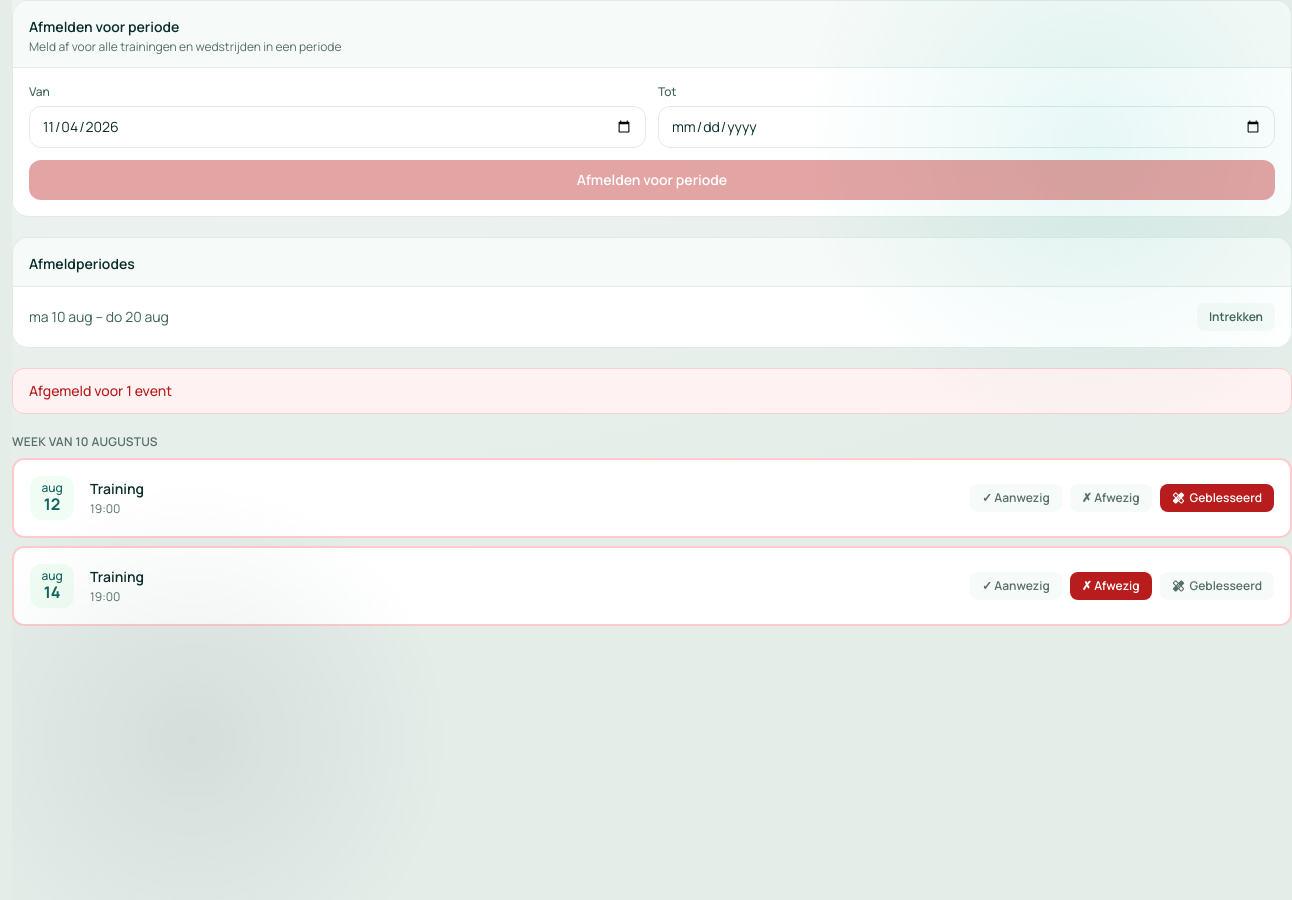
Test: blessure als eigen aanwezigheidsstatus › optimistisch intrekken van een periode laat een "injured"-rij staan
Click the button "Intrekken".
click(1236, 317)  # box top-left (1197, 303), bottom-right (1275, 331)
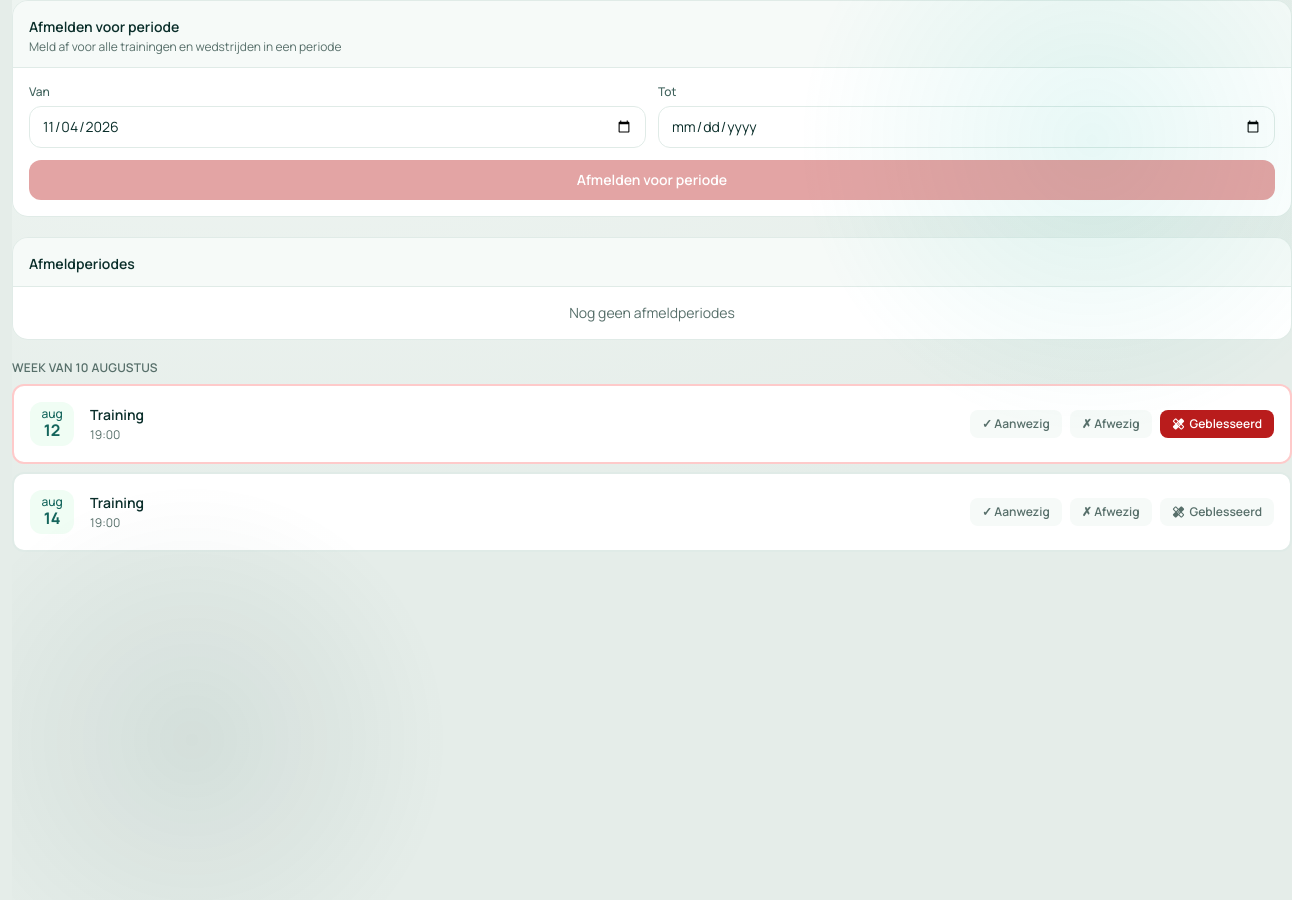
Expected: the text "Afgemeld voor" is gone
